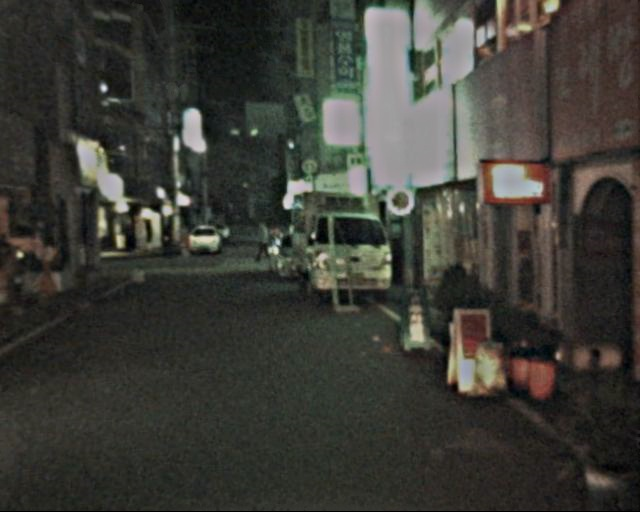person: (250, 218, 274, 267)
